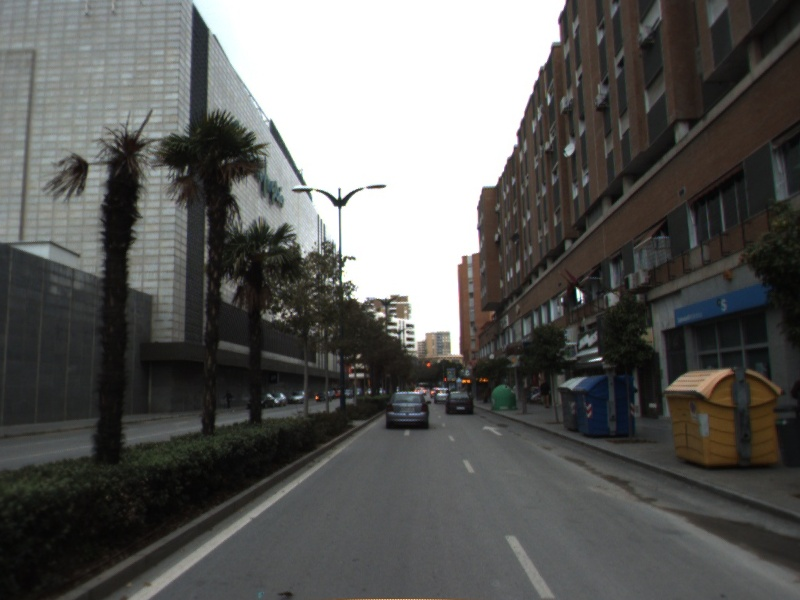STRAIGHT: (480, 423, 505, 438)
